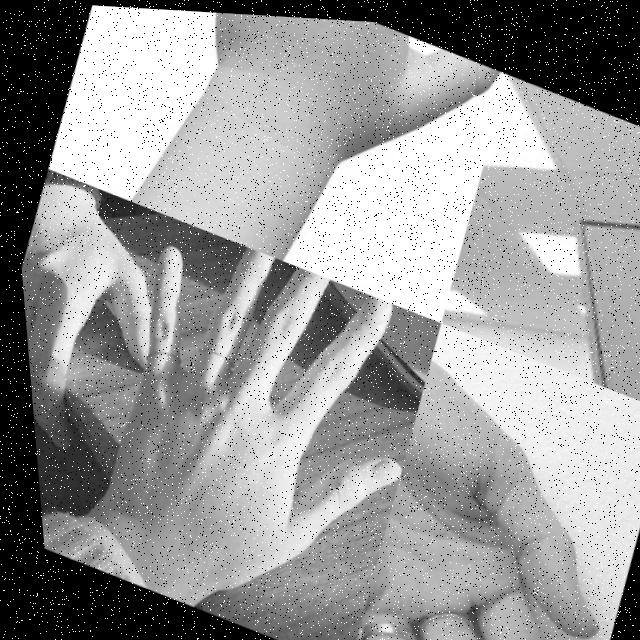hand: (51, 210, 457, 640), (93, 4, 521, 297), (314, 312, 640, 640)
